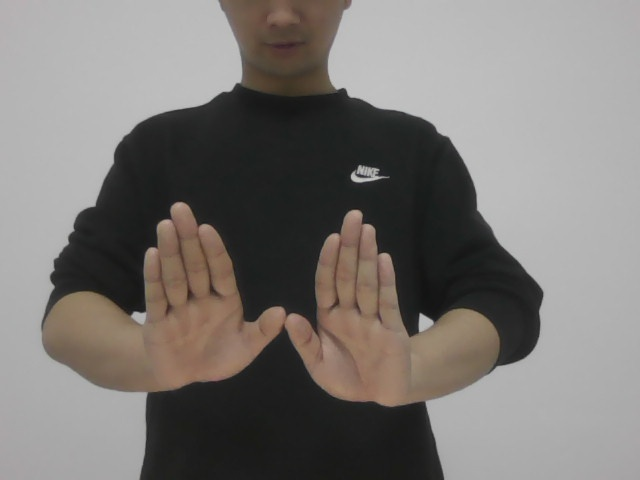door: (136, 191, 428, 416)
